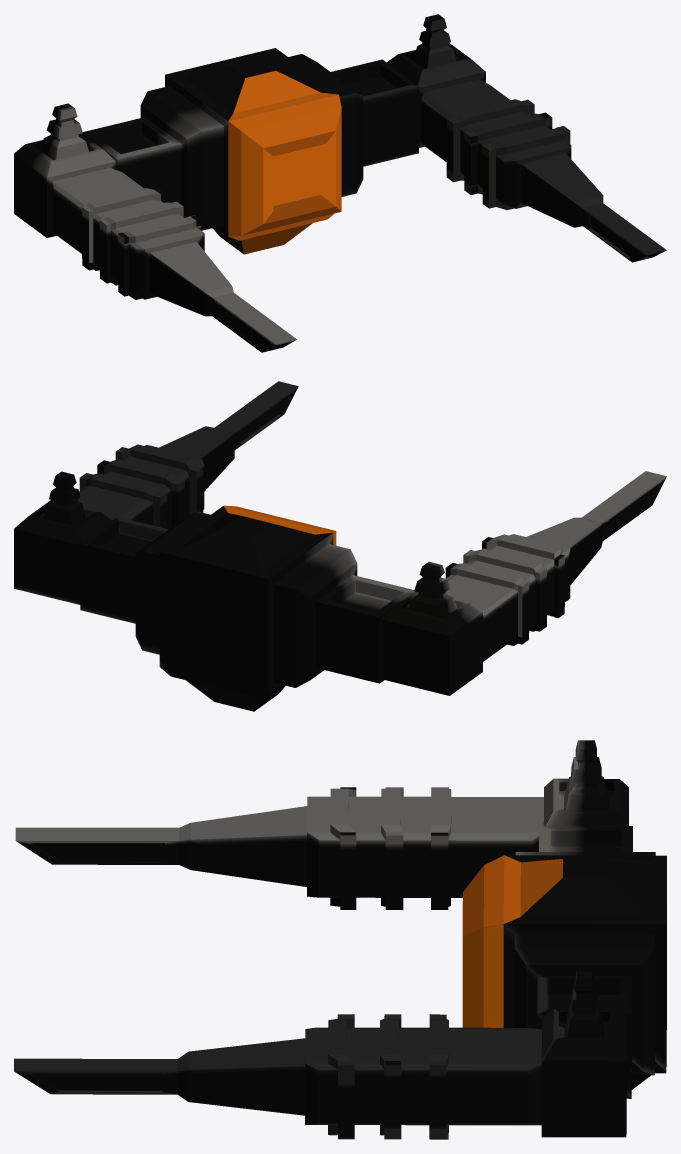
Rendered from nave.fbx.
3 renders of one model, top to bottom at view 1: azimuth 30°, elevation 25°; view 2: azimuth 150°, elevation 25°; view 3: azimuth 270°, elevation 25°, orthographic. The views are drawn at different scales.
Visible parts, largest first — view 1: pCube1; view 2: pCube1; view 3: pCube1.
Part boxes in pixels (x1=…): pCube1: x1=14, y1=14, x2=666, y2=352; pCube1: x1=14, y1=381, x2=666, y2=711; pCube1: x1=14, y1=740, x2=666, y2=1139.
Size of the model in its own units: 6.6 by 2.53 by 6.56.
